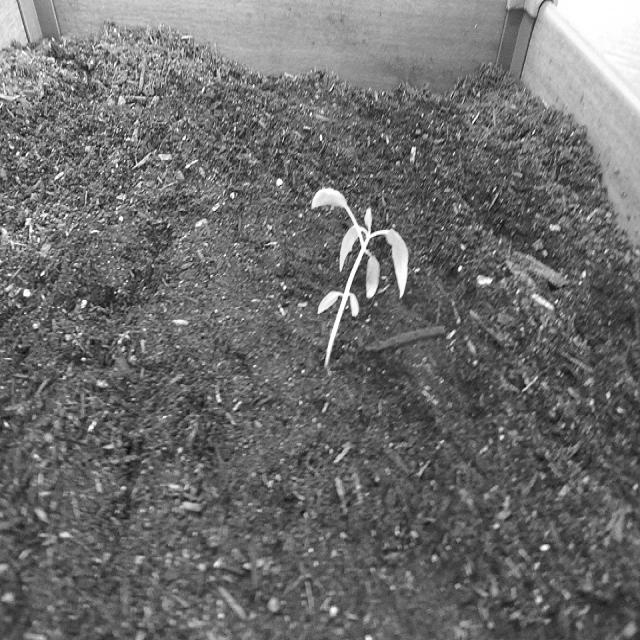Unhealthy: (306, 178, 416, 380)
